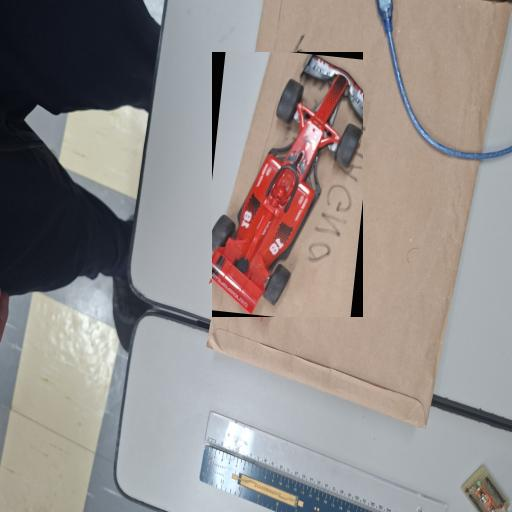carro: (210, 53, 361, 316)
